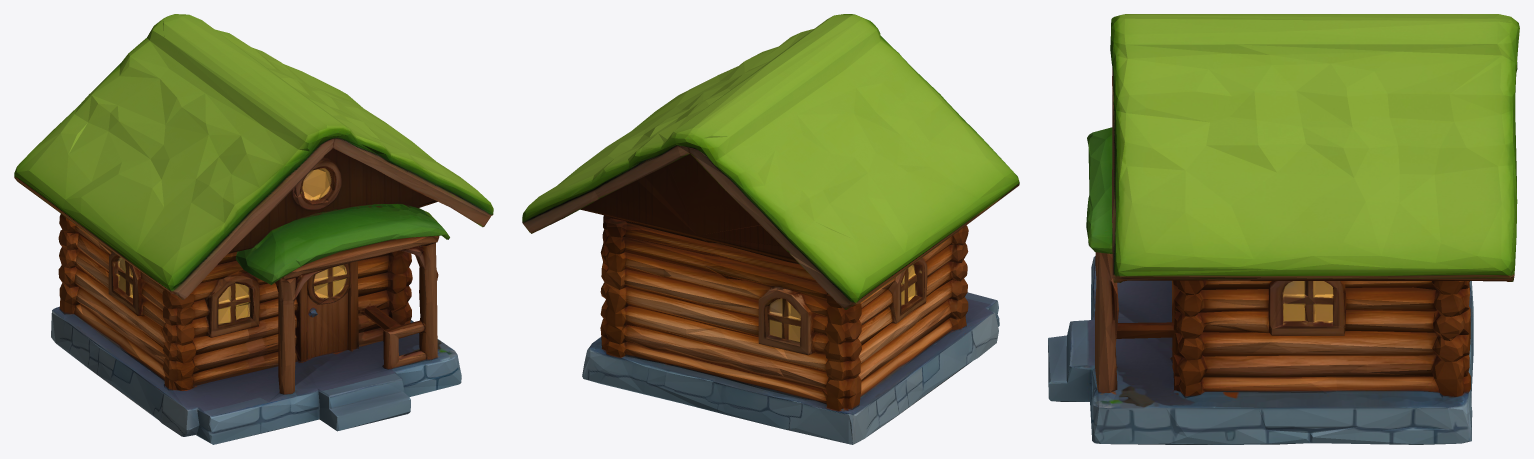
Rendered from cabin.glb.
3 views of the same model, side by side, from view 1: azimuth 30°, elevation 25°; view 2: azimuth 150°, elevation 25°; view 3: azimuth 270°, elevation 25° (orthographic). The views are drawn at different scales.
Visible parts, largest first — view 1: textured_mesh.obj; view 2: textured_mesh.obj; view 3: textured_mesh.obj.
Part boxes in pixels (box(x1,y1,x2,y2)): textured_mesh.obj: box(14, 14, 493, 444); textured_mesh.obj: box(522, 14, 1019, 444); textured_mesh.obj: box(1048, 14, 1519, 444).
Bounding box in the file's own units: 1.96 × 1.61 × 1.96.
Materials: 1 (1 with a texture image).
